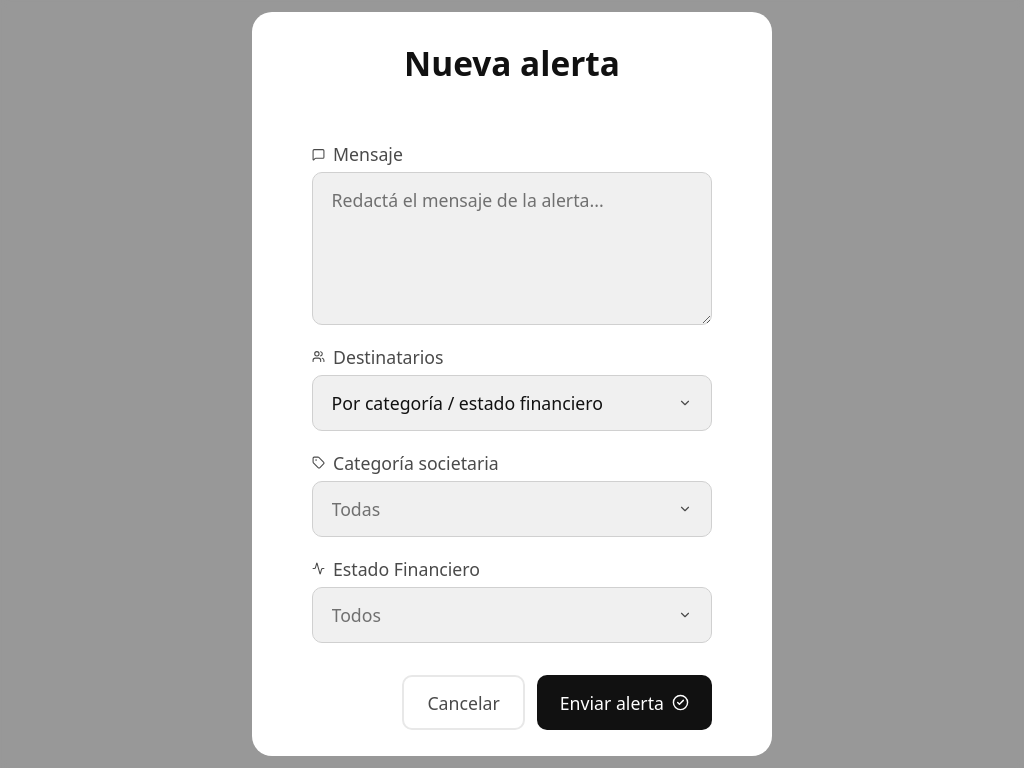
Test: CreateAlertaForm › modo "Socios específicos" › muestra error si el socio buscado no existe
This screenshot has width=1024, height=768.
Select "Socios específicos" in the dropdown labelled "Destinatarios". click: (378, 356)
box: 312,344 -> 444,368
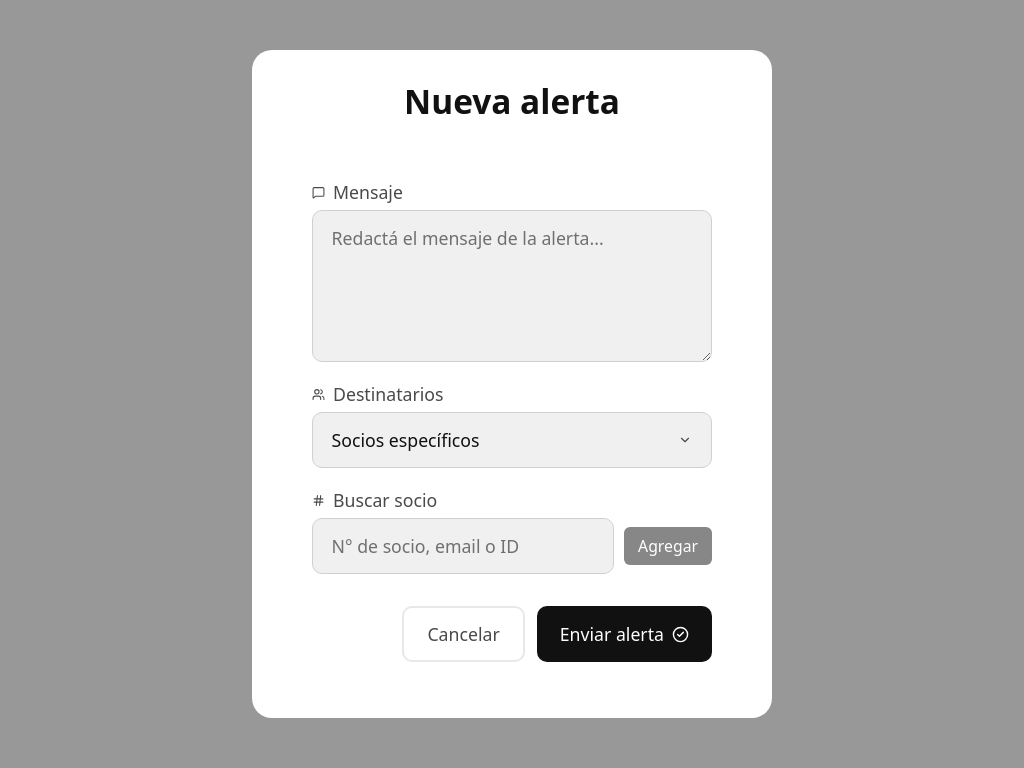
Type "nadie@club.com" into the field with placeholder "N° de socio, email o ID". click: (463, 546)
box: 312,518 -> 614,574
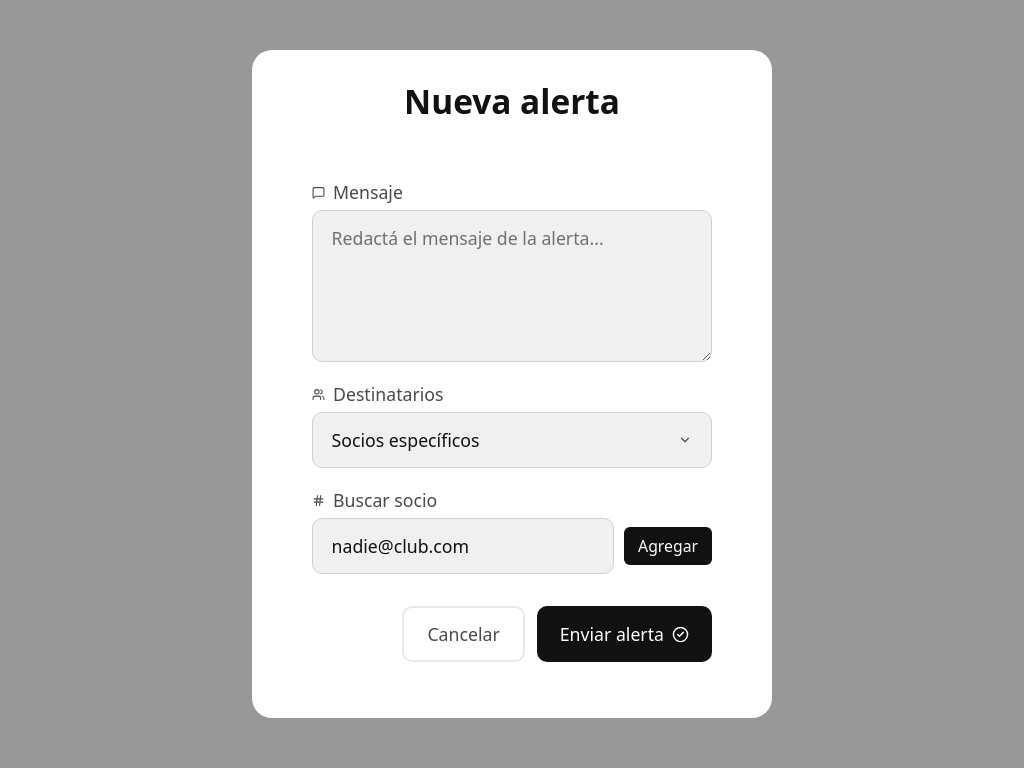
Click the button "Agregar". click: click(668, 546)
box: 624,527 -> 712,565
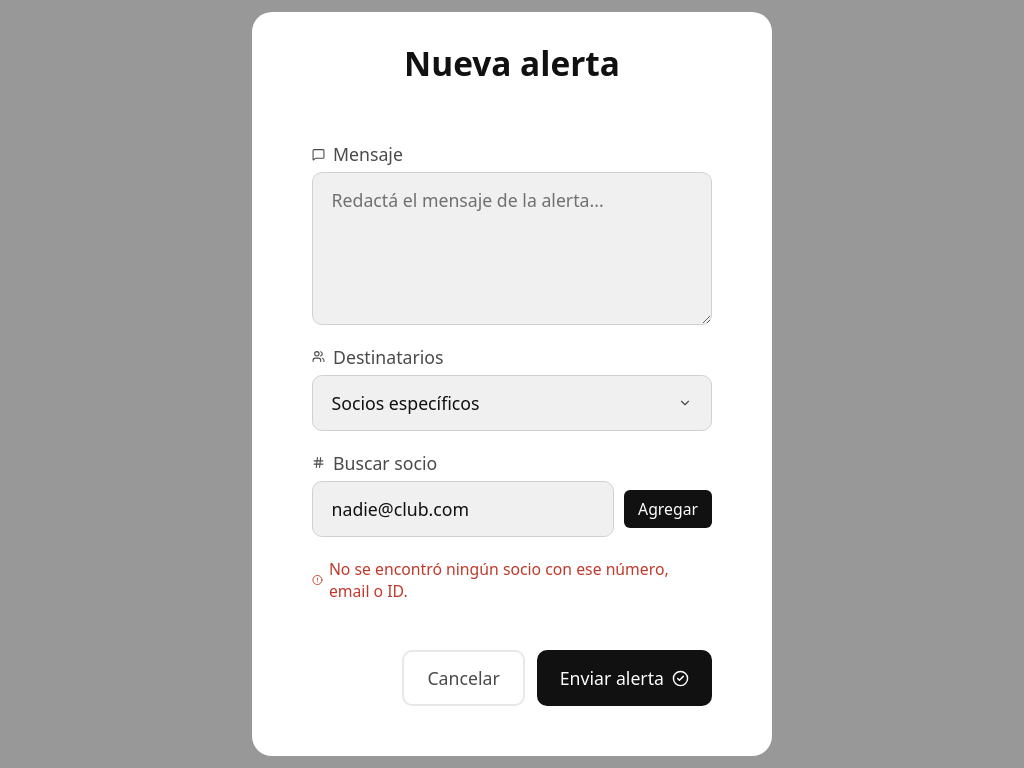
Expected: the text "No se encontró ningún socio con ese número, email o ID." is shown, 312,558 -> 712,602
